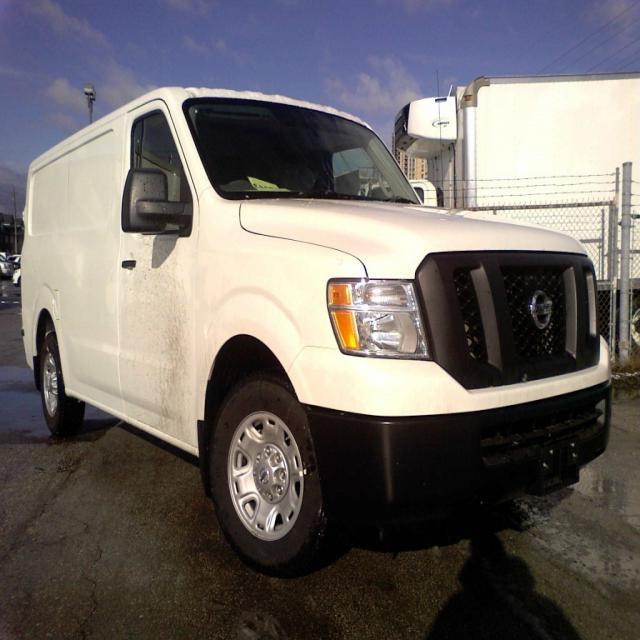Van: (17, 53, 638, 581)
